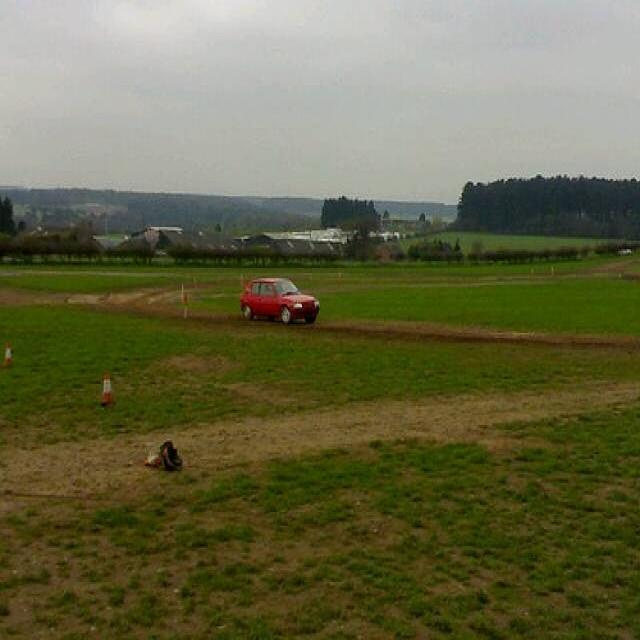car: (239, 273, 320, 326)
